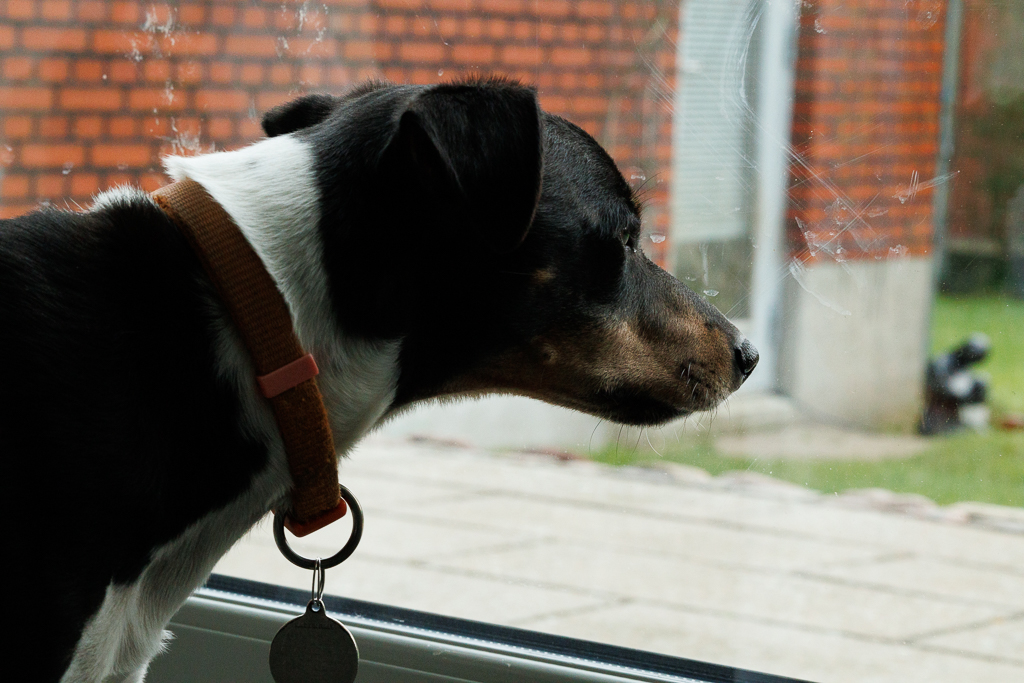Dog: (0, 62, 765, 683)
Humanoid: (905, 318, 1009, 454)
